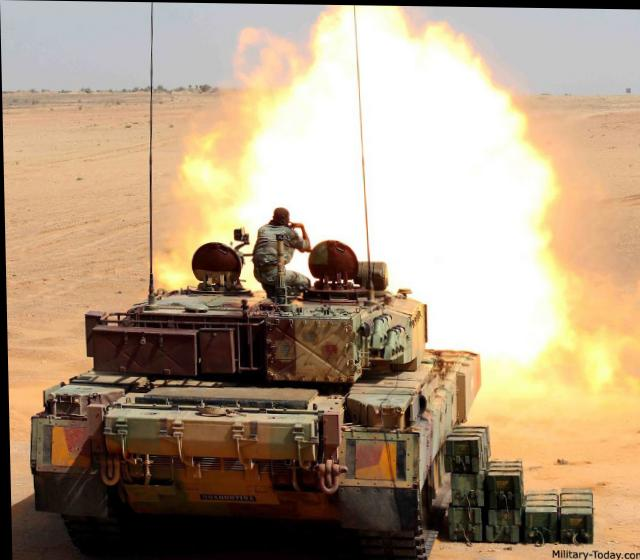other: (231, 181, 317, 310)
tank: (15, 219, 567, 558)
